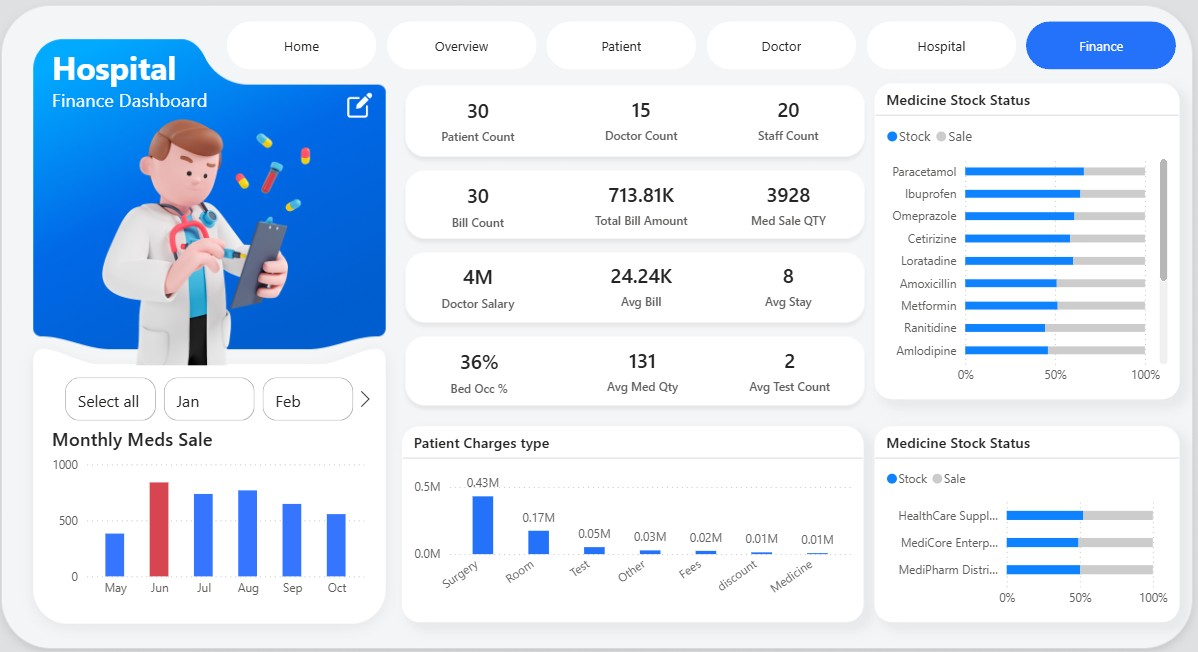

This screenshot's page, from the dashboard's own definition file:
{"tool":"powerbi","page":{"name":"Finance","canvas":[1280,720],"ordinal":5},"visuals":[{"type":"textbox","box":[82,67,181.9,77.9],"z":0},{"type":"image","box":[370,120,56.7,25],"z":1000},{"type":"image","box":[110.8,132.6,272.1,263.9],"z":2000},{"type":"advancedSlicerVisual","fields":{"Values":["Calendar.Month"]},"box":[75.2,403.4,344.6,54.7],"z":3000},{"type":"clusteredColumnChart","title":"Monthly Meds Sale","fields":{"Y":["_Measures.Total_Med_Sale_QTY"],"Category":["Calendar.Month"]},"box":[82,458.1,326.8,181.9],"z":4000},{"type":"clusteredColumnChart","title":"Patient  Charges type","fields":{"Category":["Bills.Charges_Type"],"Y":["Sum(Bills.Value)"]},"box":[441.6,458.1,467.6,198.3],"z":5000},{"type":"hundredPercentStackedBarChart","title":"Medicine Stock Status","fields":{"Y":["_Measures.Total_Stock_QTY","_Measures.Total_Med_Sale_QTY"],"Category":["medical_stock_info.name"]},"box":[920.2,110.8,309,320],"z":6000},{"type":"hundredPercentStackedBarChart","title":"Medicine Stock Status","fields":{"Y":["_Measures.Total_Stock_QTY","_Measures.Total_Med_Sale_QTY"],"Category":["medical_stock_info.supplier_name"]},"box":[920.2,458.1,309,198.3],"z":7000},{"type":"card","fields":{"Values":["_Measures.Patient_count"]},"box":[464.5,116.3,106.6,62.9],"z":8000},{"type":"card","fields":{"Values":["Count(patient_info.doctor_doctor_id)"]},"box":[630.1,114.9,106.6,62.9],"z":9000},{"type":"card","fields":{"Values":["Count(Staff.staff_id)"]},"box":[778.8,114.7,106.6,62.9],"z":10000},{"type":"card","fields":{"Values":["Count(Bills.bill_id)"]},"box":[465.4,202.2,106.6,62.9],"z":11000},{"type":"card","fields":{"Values":["_Measures.Total_Bill_Amt"]},"box":[631,200.8,106.6,62.9],"z":12000},{"type":"card","fields":{"Values":["_Measures.Total_Med_Sale_QTY"]},"box":[779.6,200.6,106.6,62.9],"z":13000},{"type":"card","fields":{"Values":["Sum(patient_info.doctor_salary)"]},"box":[465.4,284.3,106.6,62.9],"z":14000},{"type":"card","fields":{"Values":["_Measures.Avg Bill"]},"box":[631,282.9,106.6,62.9],"z":15000},{"type":"card","fields":{"Values":["_Measures.Avg Stay"]},"box":[779.6,282.7,106.6,62.9],"z":16000},{"type":"card","fields":{"Values":["_Measures.Bed Occ %"]},"box":[466.3,370.2,106.6,62.9],"z":17000},{"type":"card","fields":{"Values":["_Measures.Med / Patient"]},"box":[631.8,368.8,106.6,62.9],"z":18000},{"type":"card","fields":{"Values":["_Measures.Tests / Patient"]},"box":[780.5,368.6,106.6,62.9],"z":19000},{"type":"pageNavigator","box":[263.9,47.9,966.7,49.2],"z":20000}]}

Visuals, with their boxes on the page's 1280x720 design canvas (x1, y1, x2, y2). These are canvas units, not pixel positions in the 1198x652 screenshot, which may show the page scaled, cropped or inside an application window:
textbox: crop(82, 67, 264, 145)
image: crop(370, 120, 427, 145)
image: crop(111, 133, 383, 396)
advancedSlicerVisual - Calendar.Month: crop(75, 403, 420, 458)
"Monthly Meds Sale" clusteredColumnChart: crop(82, 458, 409, 640)
"Patient  Charges type" clusteredColumnChart: crop(442, 458, 909, 656)
"Medicine Stock Status" hundredPercentStackedBarChart: crop(920, 111, 1229, 431)
"Medicine Stock Status" hundredPercentStackedBarChart: crop(920, 458, 1229, 656)
card - _Measures.Patient_count: crop(464, 116, 571, 179)
card - Count(patient_info.doctor_doctor_id): crop(630, 115, 737, 178)
card - Count(Staff.staff_id): crop(779, 115, 885, 178)
card - Count(Bills.bill_id): crop(465, 202, 572, 265)
card - _Measures.Total_Bill_Amt: crop(631, 201, 738, 264)
card - _Measures.Total_Med_Sale_QTY: crop(780, 201, 886, 264)
card - Sum(patient_info.doctor_salary): crop(465, 284, 572, 347)
card - _Measures.Avg Bill: crop(631, 283, 738, 346)
card - _Measures.Avg Stay: crop(780, 283, 886, 346)
card - _Measures.Bed Occ %: crop(466, 370, 573, 433)
card - _Measures.Med / Patient: crop(632, 369, 738, 432)
card - _Measures.Tests / Patient: crop(780, 369, 887, 432)
pageNavigator: crop(264, 48, 1231, 97)
